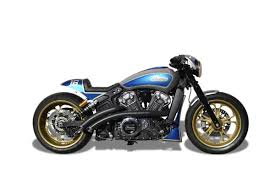motorcycle: (29, 53, 251, 155)
